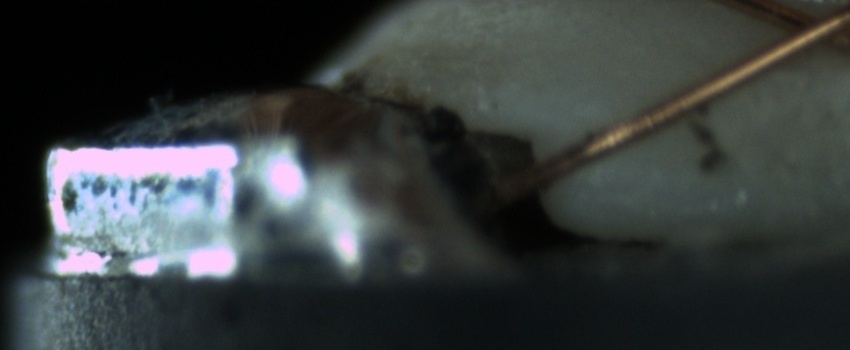CL: (763, 0, 849, 61)
